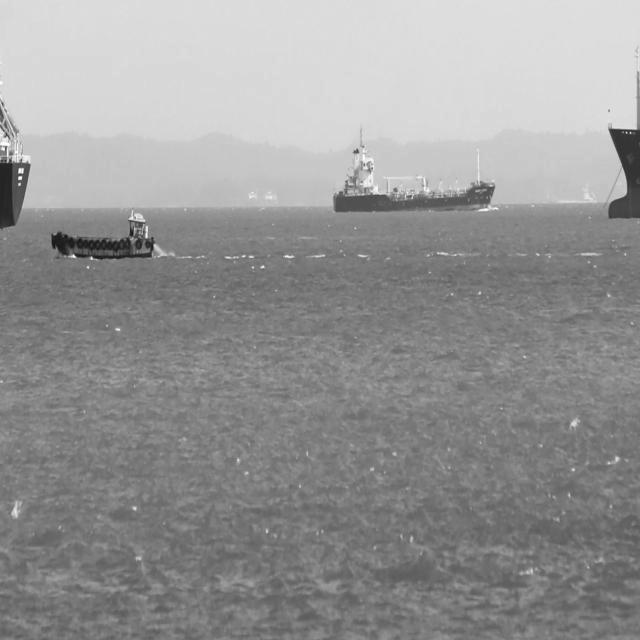ship: (332, 124, 495, 215), (607, 44, 640, 218), (51, 208, 158, 260), (0, 94, 31, 227)
